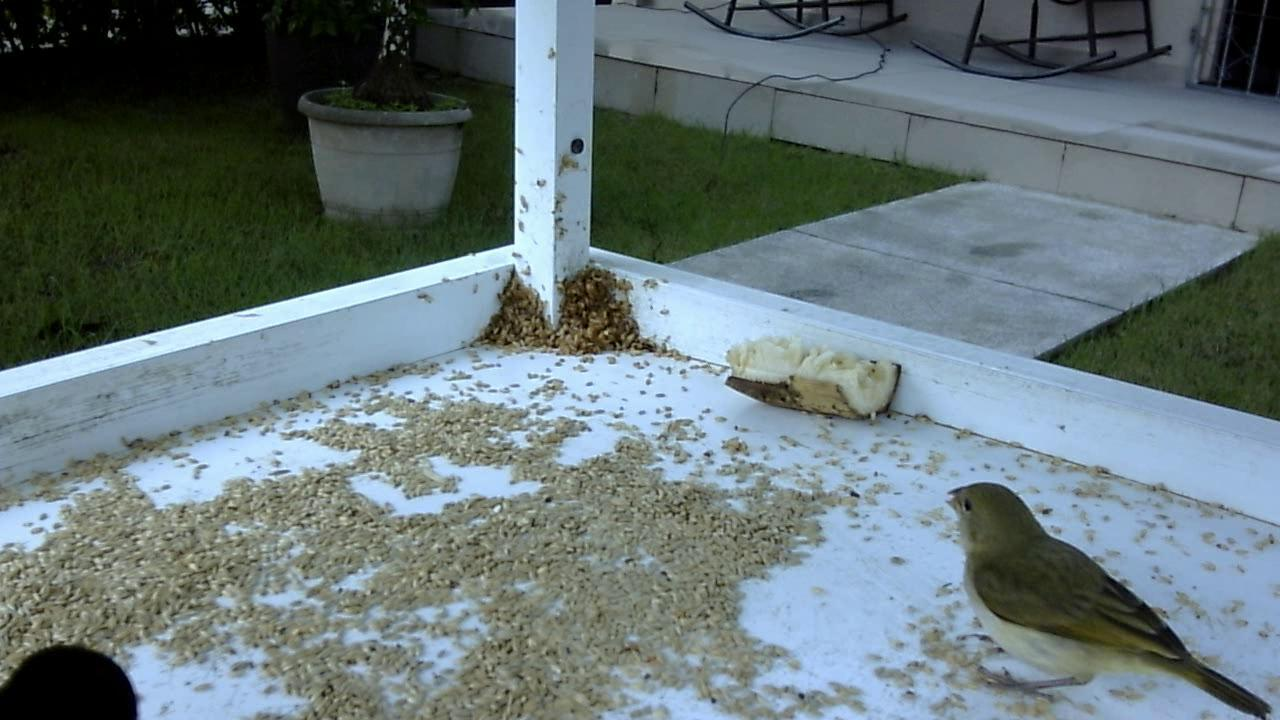canario_do_amazonas: (925, 477, 1280, 720)
